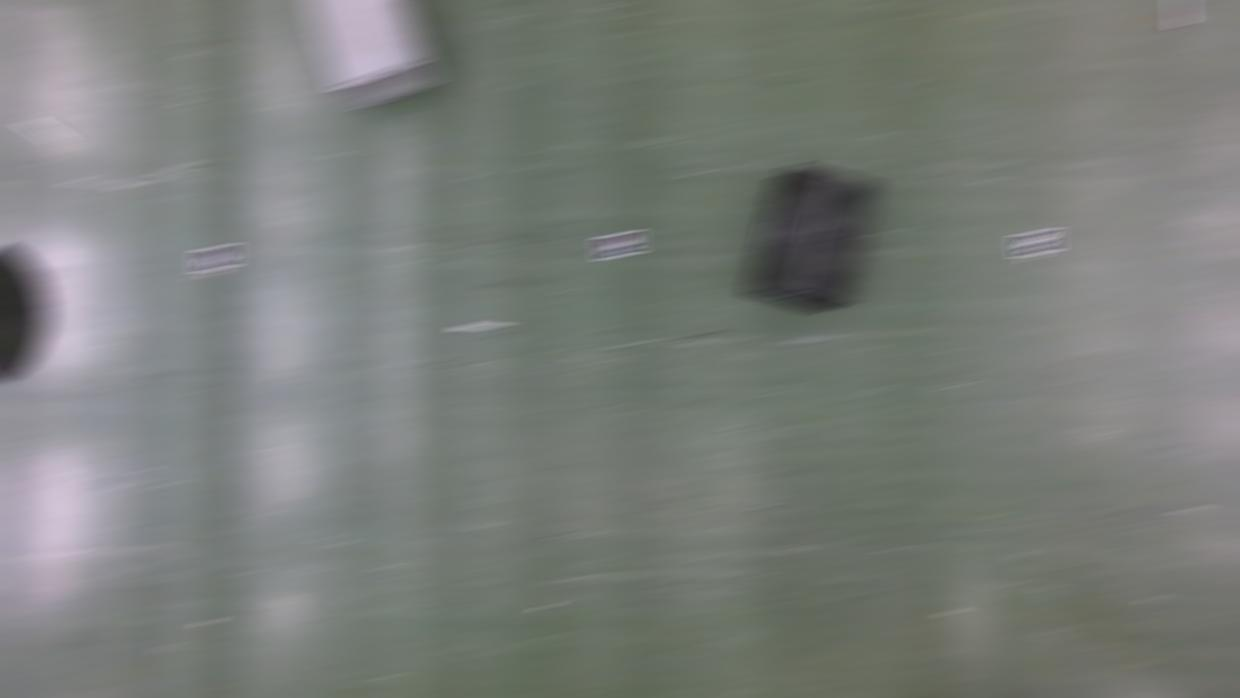probes: (24, 122, 70, 146), (1173, 1, 1190, 27), (458, 324, 507, 330)
rako: (746, 166, 878, 314), (296, 1, 440, 111)
